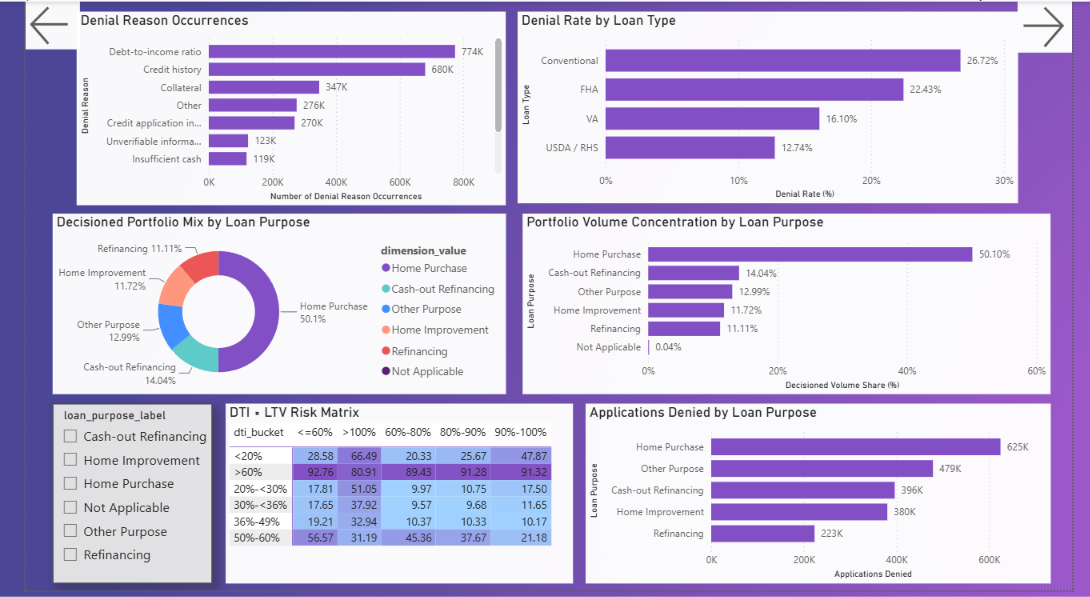

This screenshot's page, from the dashboard's own definition file:
{"tool":"powerbi","page":{"name":"Risk Drivers & Concentration","canvas":[1280,720],"ordinal":1},"visuals":[{"type":"clusteredBarChart","title":"Denial Reason Occurrences","fields":{"Category":["hmda_credit_risk vw_denial_reason_risk.denial_reason"],"Y":["Sum(hmda_credit_risk vw_denial_reason_risk.reason_occurrences)"]},"box":[62.9,12.1,525,237],"z":0},{"type":"pivotTable","title":"DTI × LTV Risk Matrix","fields":{"Rows":["hmda_credit_risk vw_dti_ltv_risk.dti_bucket"],"Columns":["hmda_credit_risk vw_dti_ltv_risk.ltv_bucket"],"Values":["Sum(hmda_credit_risk vw_dti_ltv_risk.decisioned_denial_rate)"]},"box":[245.1,491.5,424.5,219.6],"z":1000},{"type":"clusteredBarChart","title":"Portfolio Volume Concentration by Loan Purpose","fields":{"Category":["hmda_credit_risk vw_risk_concentration.dimension_value"],"Y":["Sum(hmda_credit_risk vw_risk_concentration.decisioned_volume_share_pct)"]},"box":[608,259.8,645.5,221],"z":2000},{"type":"clusteredBarChart","title":"Denial Rate by Loan Type","fields":{"Y":["Sum(hmda_credit_risk vw_loan_type_risk.denial_rate)"],"Category":["hmda_credit_risk vw_loan_type_risk.loan_type_label"]},"box":[601.3,12.1,612,234.4],"z":3000},{"type":"clusteredBarChart","title":"Applications Denied by Loan Purpose","fields":{"Category":["hmda_credit_risk vw_risk_concentration.dimension_value"],"Y":["Sum(hmda_credit_risk vw_risk_concentration.applications_denied)"]},"box":[684.3,491.5,569.2,219.6],"z":4000},{"type":"actionButton","box":[1213,0,67.3,62.4],"z":5000},{"type":"actionButton","box":[0,0,66,58.7],"z":6000},{"type":"donutChart","title":"Decisioned Portfolio Mix by Loan Purpose","fields":{"Category":["hmda_credit_risk vw_risk_concentration.dimension_value"],"Y":["Sum(hmda_credit_risk vw_risk_concentration.decisioned_applications)"]},"box":[33.5,259.8,554.4,221],"z":7000},{"type":"slicer","fields":{"Values":["Dim Loan Purpose.loan_purpose_label"]},"box":[33.5,491.5,195.5,219.6],"z":8000}]}

Visuals, with their boxes in screenshot pixels (x1, y1, x2, y2), scaled from the page's 1280x720 canvas onto the 1090x597 screenshot:
"Denial Reason Occurrences" clusteredBarChart: box=[54, 10, 501, 207]
"DTI × LTV Risk Matrix" pivotTable: box=[209, 408, 570, 590]
"Portfolio Volume Concentration by Loan Purpose" clusteredBarChart: box=[518, 215, 1067, 399]
"Denial Rate by Loan Type" clusteredBarChart: box=[512, 10, 1033, 204]
"Applications Denied by Loan Purpose" clusteredBarChart: box=[583, 408, 1067, 590]
actionButton: box=[1033, 0, 1089, 52]
actionButton: box=[0, 0, 56, 49]
"Decisioned Portfolio Mix by Loan Purpose" donutChart: box=[29, 215, 501, 399]
slicer - Dim Loan Purpose.loan_purpose_label: box=[29, 408, 195, 590]
